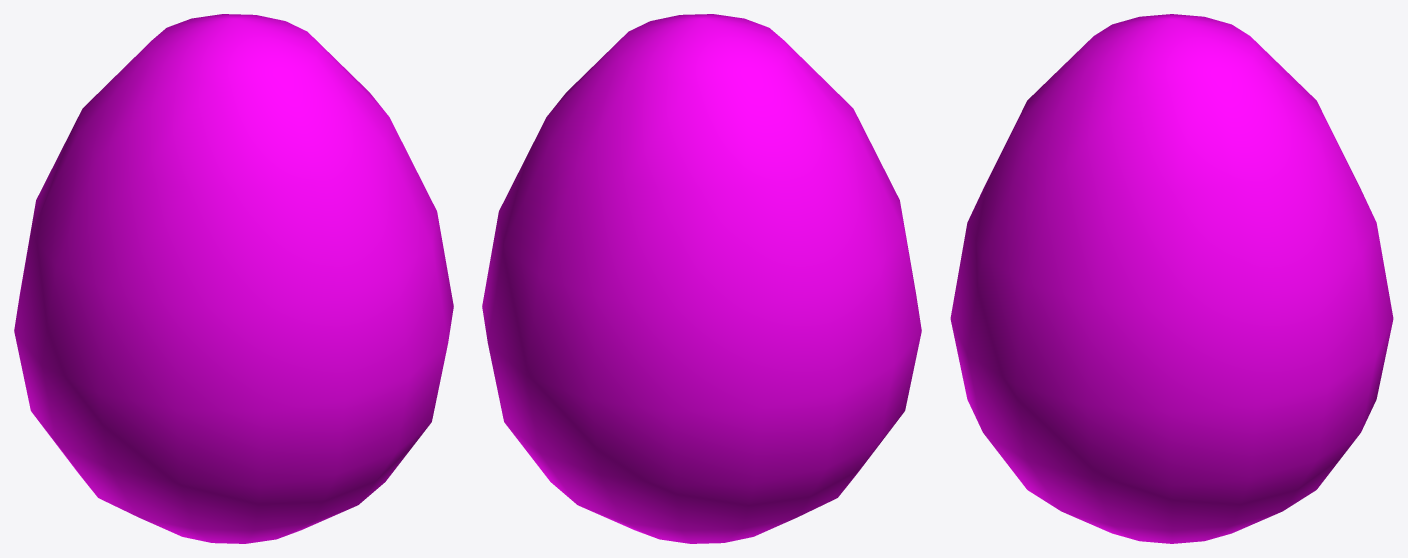
The model's file is eggPurple.glb.
3 renders of one model, left to right at view 1: azimuth 30°, elevation 25°; view 2: azimuth 150°, elevation 25°; view 3: azimuth 270°, elevation 25°, orthographic.
Visible parts, largest first — view 1: Sphere008; view 2: Sphere008; view 3: Sphere008.
Boxes of the visible parts, x1,y1,x2,y2 form: Sphere008: [14, 14, 453, 543]; Sphere008: [482, 14, 921, 543]; Sphere008: [950, 14, 1393, 543].
Size of the model in its own units: 0.1403 by 0.1761 by 0.1403.
